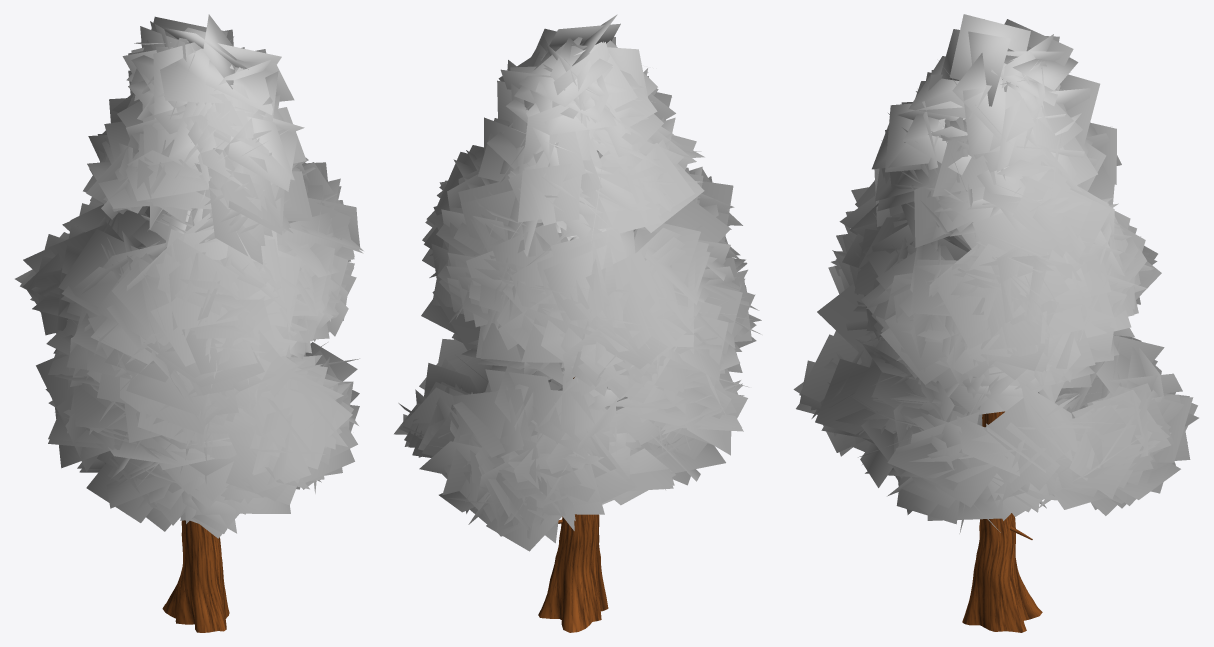
File: SM_Tree_Campsite_04.fbx
3 renders of one model, left to right at view 1: azimuth 30°, elevation 25°; view 2: azimuth 150°, elevation 25°; view 3: azimuth 270°, elevation 25°, orthographic.
Parts seen in each view (by area): view 1: Tree_Campsite_04_LOD0; view 2: Tree_Campsite_04_LOD0; view 3: Tree_Campsite_04_LOD0.
Boxes of the visible parts, box(x1,y1,x2,y2) form: Tree_Campsite_04_LOD0: box(15, 14, 363, 632); Tree_Campsite_04_LOD0: box(394, 14, 761, 632); Tree_Campsite_04_LOD0: box(793, 14, 1198, 632).
Size of what is drawn, in the model's own units: 12.05 by 22.77 by 14.08.
